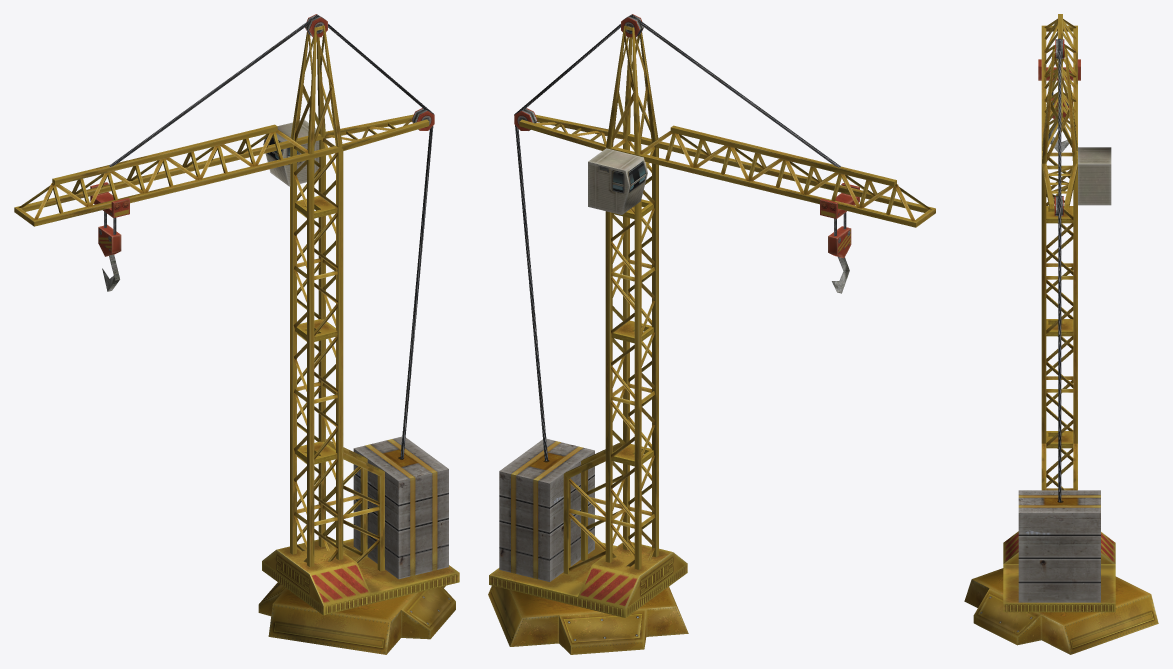
File: crane_001.fbx
3 views of the same model, side by side, from view 1: azimuth 30°, elevation 25°; view 2: azimuth 150°, elevation 25°; view 3: azimuth 270°, elevation 25° (orthographic). The views are drawn at different scales.
Parts seen in each view (by area): view 1: Crane; view 2: Crane; view 3: Crane.
Boxes of the visible parts, x1,y1,x2,y2 form: Crane: (14,14,459,654); Crane: (488,14,935,654); Crane: (964,14,1158,654).
Size of the model in its own units: 347 by 467 by 148.
Materials: 1 (1 with a texture image).
